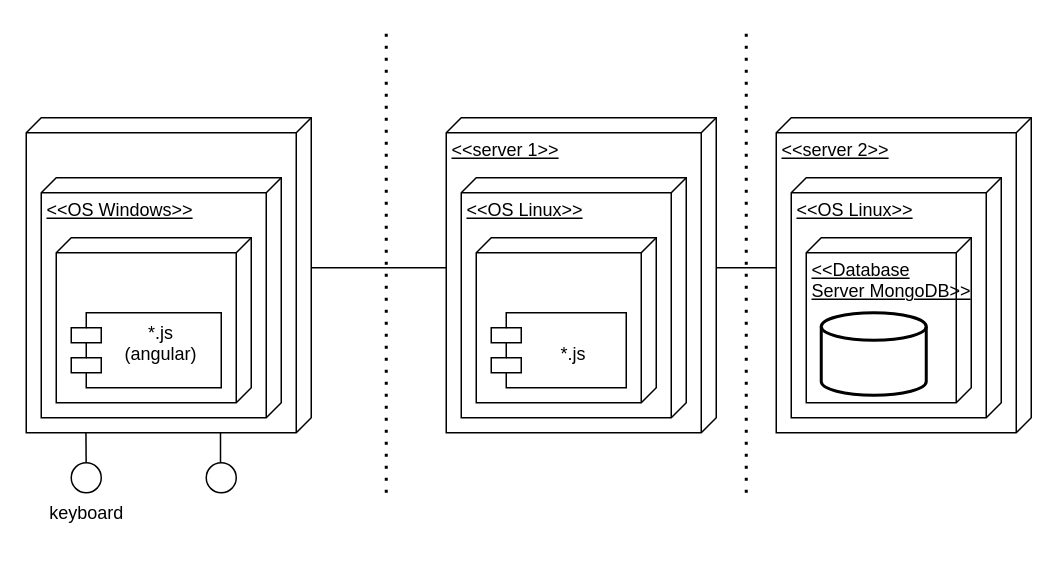
This 1058x572 diagram has some shape labels left out. Here are the shapes that lost their labels. From the top down, the box of each, then its label:
(25, 116, 311, 433): <<Desktop computer>>
(55, 236, 251, 403): <<Web navigator>>
(475, 236, 656, 403): <<Node.js>>
(819, 310, 927, 396): JSON
(205, 461, 236, 493): manipulator "mouse"
